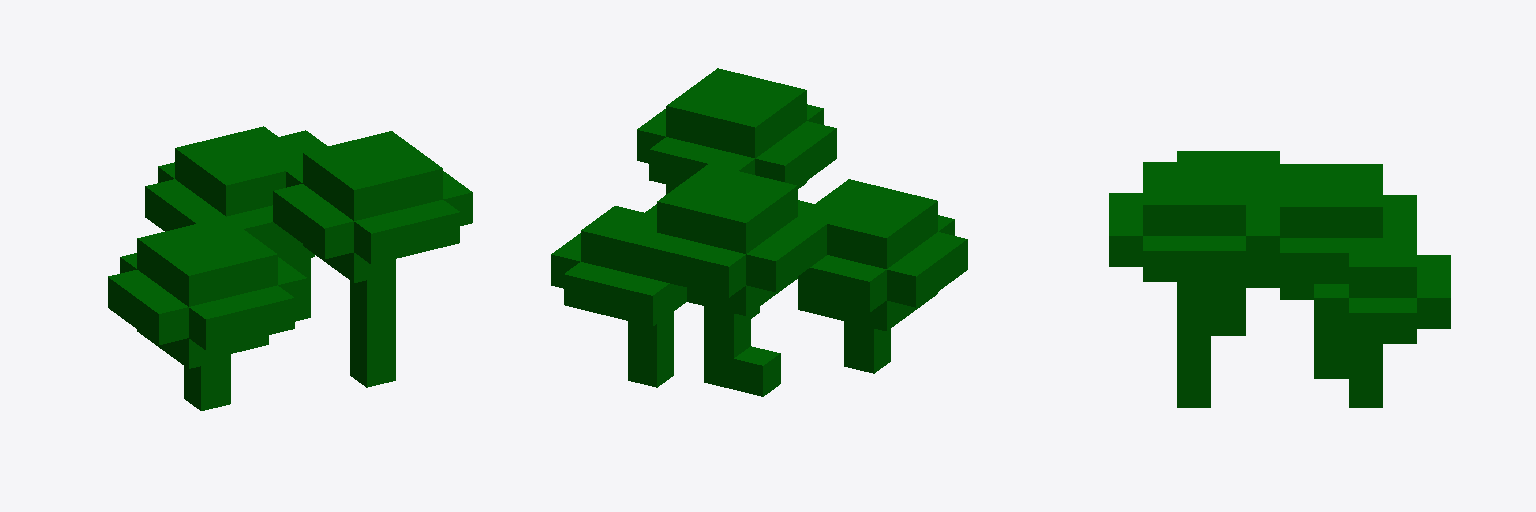
The picture shows the model from 3 angles: view 1: azimuth 30°, elevation 25°; view 2: azimuth 150°, elevation 25°; view 3: azimuth 270°, elevation 25°; orthographic projection.
Parts seen in each view (by area): view 1: object 1; view 2: object 1; view 3: object 1.
Boxes of the visible parts, box(x1,y1,x2,y2) form: object 1: box(108, 126, 472, 410); object 1: box(551, 68, 967, 396); object 1: box(1109, 151, 1450, 407).
Size of the model in its own units: 1 by 0.7 by 1.
1 materials, 1 textured.